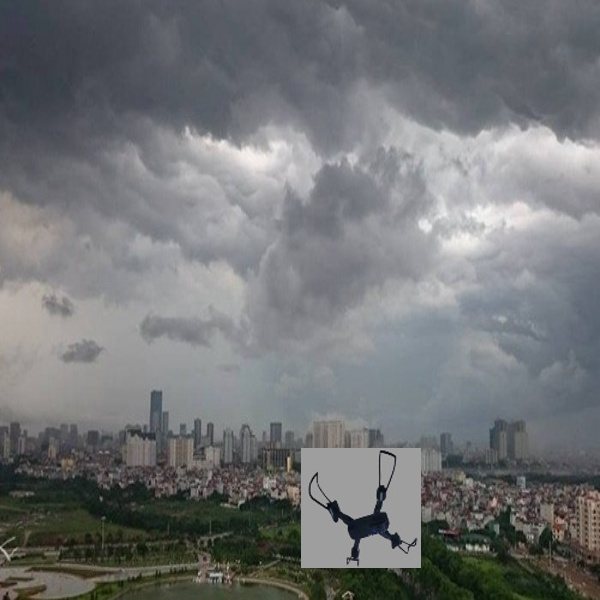drone: (306, 450, 422, 567)
